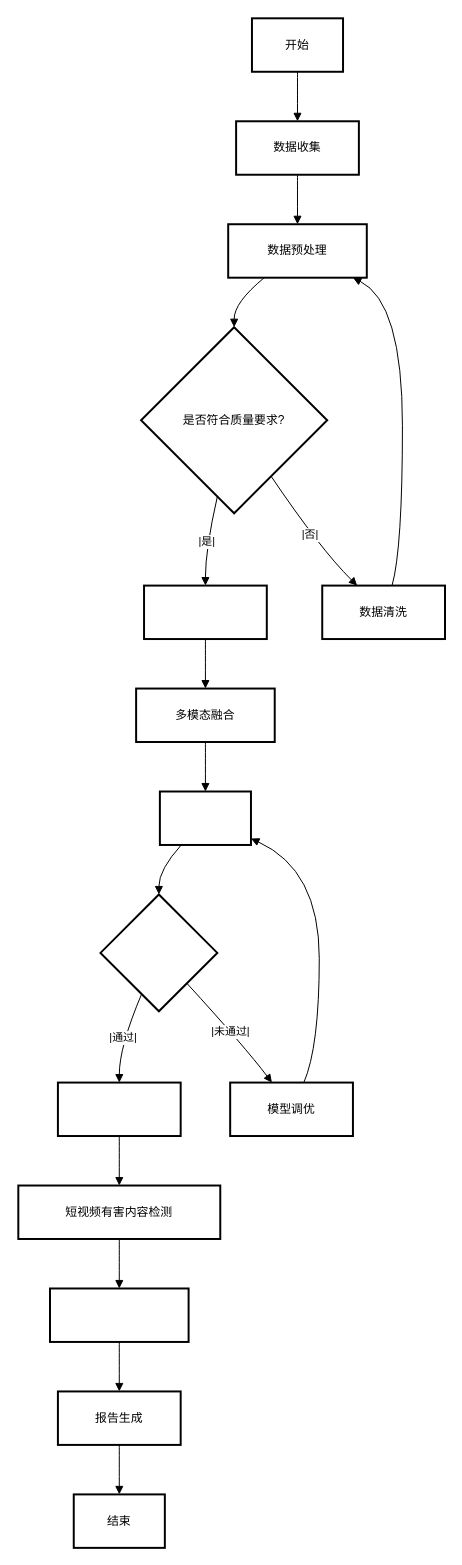
The diagram is 462 pixels wide and 1565 high, and some of its shapes have lost their labels. The shapes that lost their labels are listed below. From the top down, each one's box as (x1, y1, x2, y2) in pixels, then its label:
(143, 584, 267, 640): 特征提取
(158, 790, 251, 845): 建模
(99, 893, 218, 1012): 模型评估
(56, 1081, 181, 1137): 结果分析
(49, 1287, 189, 1342): 结果可视化
